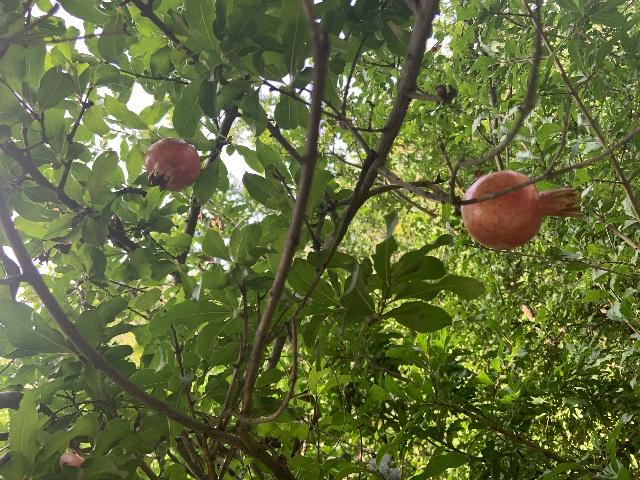ripe: (460, 170, 582, 249), (143, 137, 201, 192)
